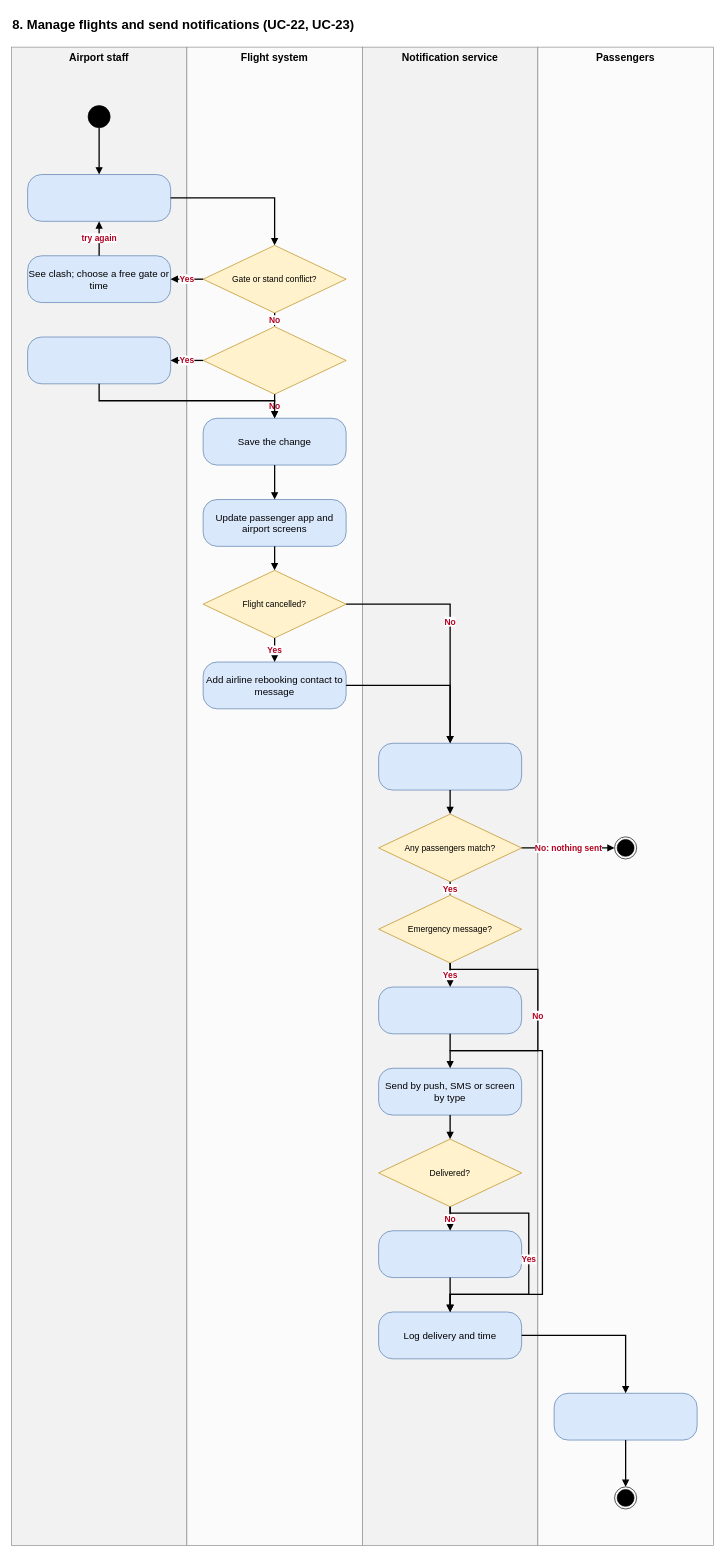
Image size: 725x1557. Some labels were removed from this diagram. The shapes that lost their labels are listed below. From the top down, each one's centre as x and y in pixels, then its label:
(x=99, y=197): Open Flights; add or edit a flight
(x=99, y=360): Enter a reason for the change
(x=274, y=360): Change within notice limit?
(x=450, y=766): Select recipients; fill message template
(x=450, y=1010): Send on all channels at once
(x=450, y=1254): Retry; then SMS or in-app inbox
(x=625, y=1416): Receive the notification
